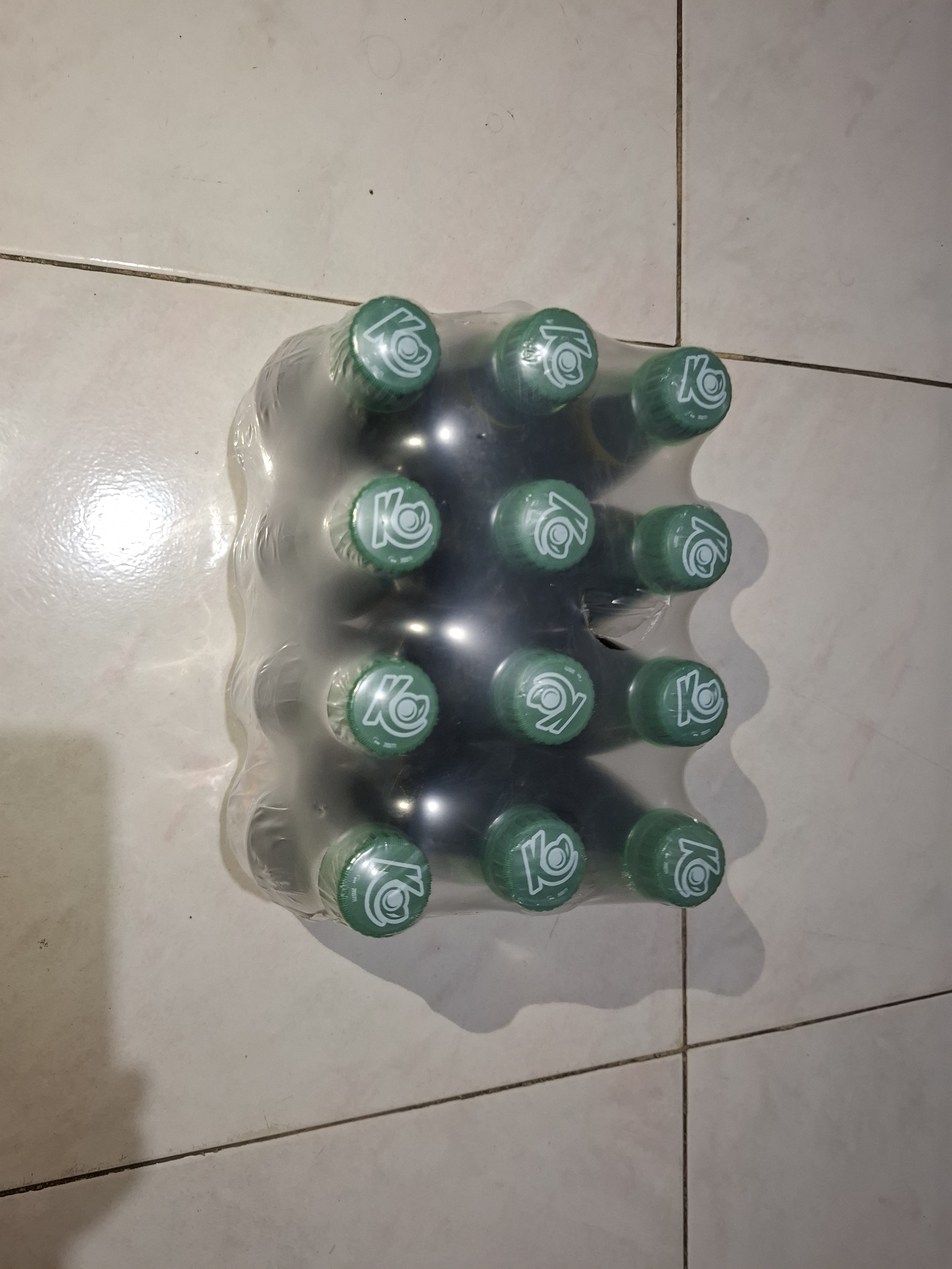Tampa Refrigerante Kuat: (319, 645, 436, 753), (333, 477, 440, 585), (330, 827, 431, 941), (482, 806, 586, 910), (642, 641, 737, 751), (499, 642, 597, 748), (348, 291, 443, 397), (506, 300, 600, 407), (649, 495, 745, 599), (636, 804, 731, 904), (653, 337, 737, 435), (510, 481, 597, 569)
